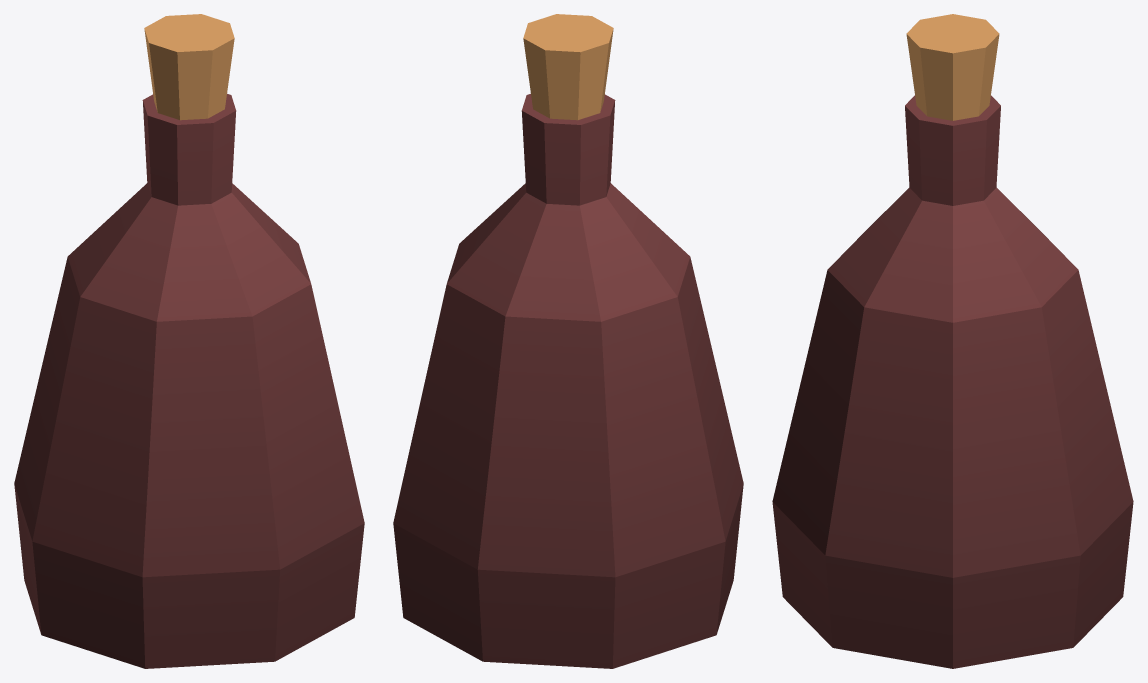
Rendered from KitchenProps_06.fbx.
3 views of the same model, side by side, from view 1: azimuth 30°, elevation 25°; view 2: azimuth 150°, elevation 25°; view 3: azimuth 270°, elevation 25° (orthographic).
Parts seen in each view (by area): view 1: KitchenProps_06; view 2: KitchenProps_06; view 3: KitchenProps_06.
Boxes of the visible parts, x1,y1,x2,y2 form: KitchenProps_06: (14,14,364,668); KitchenProps_06: (393,14,743,668); KitchenProps_06: (772,14,1133,668).
Bounding box in the file's own units: 6.99 × 12.02 × 6.99.
